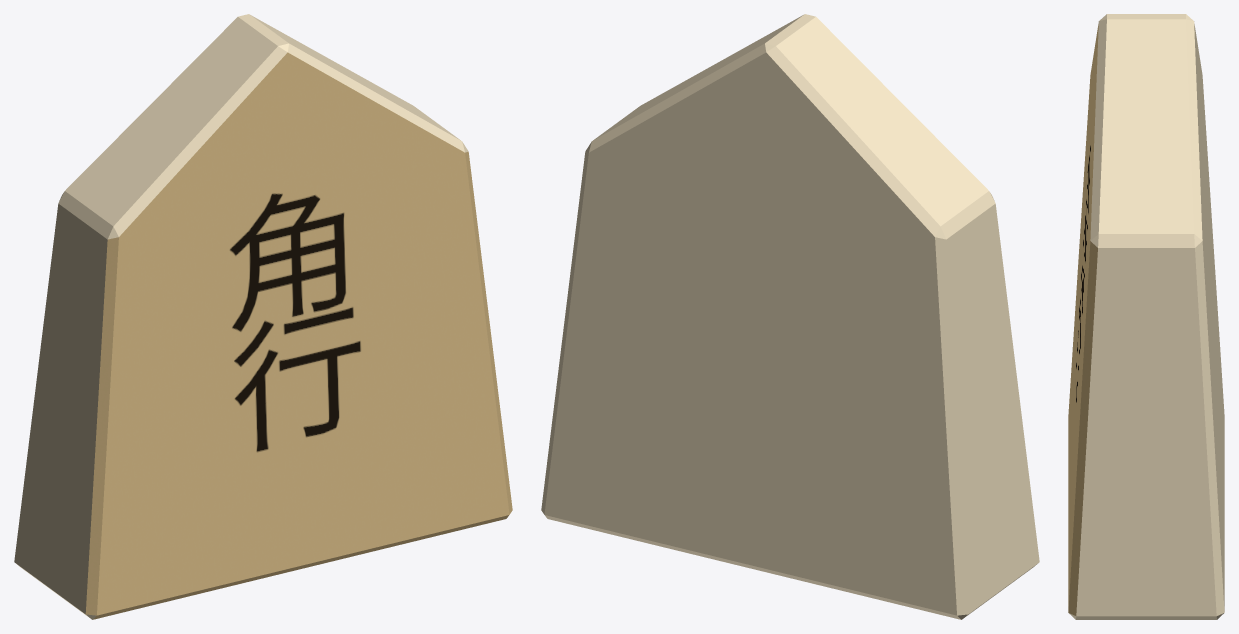
Rendered from Shogi_Bishop.glb.
The picture shows the model from 3 angles, left to right: view 1: azimuth 30°, elevation 25°; view 2: azimuth 150°, elevation 25°; view 3: azimuth 270°, elevation 25°; orthographic projection.
Visible parts, largest first — view 1: Shogi_Bishop; view 2: Shogi_Bishop; view 3: Shogi_Bishop.
Boxes of the visible parts, x1,y1,x2,y2 form: Shogi_Bishop: [14, 14, 512, 619]; Shogi_Bishop: [541, 14, 1039, 619]; Shogi_Bishop: [1068, 14, 1224, 619].
Size of the model in its own units: 0.027 by 0.031 by 0.0087.
Materials: 2 (1 with a texture image).
